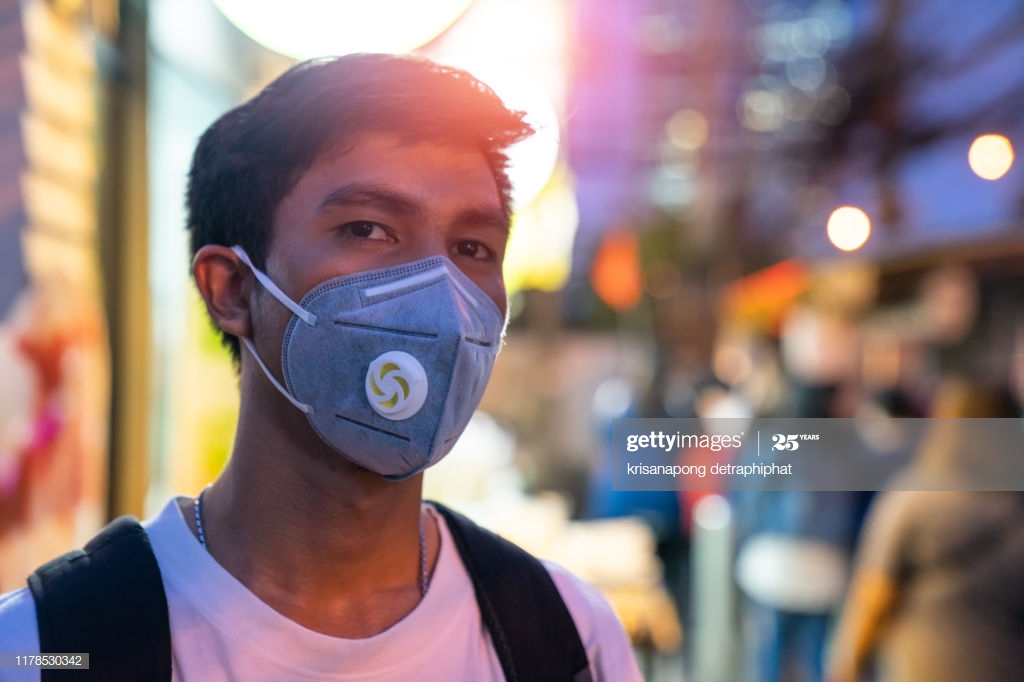n95: (279, 249, 512, 485)
